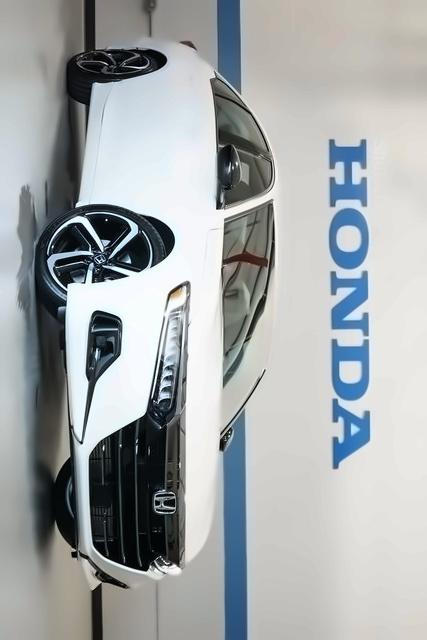Car hood: (173, 232, 230, 579)
Driver-s door - -F-R-: (86, 136, 278, 199)
Fender - -F-R-: (80, 200, 229, 292)
Fender - -R-R-: (91, 47, 212, 81)
Front bumper: (54, 258, 166, 598)
Headlight - -L-: (135, 545, 188, 589)
Headlight - -R-: (141, 276, 193, 433)
Passenger-s door - -R-R-: (91, 81, 272, 135)
Rear bumper: (133, 31, 177, 53)
Rear light - -R-: (175, 30, 208, 57)
Side bumper - -R-: (74, 70, 118, 218)
Side mirror - -L-: (210, 420, 245, 459)
Side mirror - -R-: (210, 140, 246, 206)
